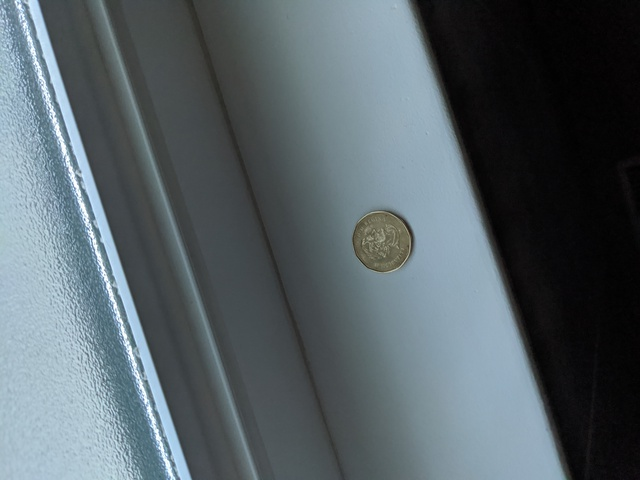loonie: (346, 199, 425, 277)
